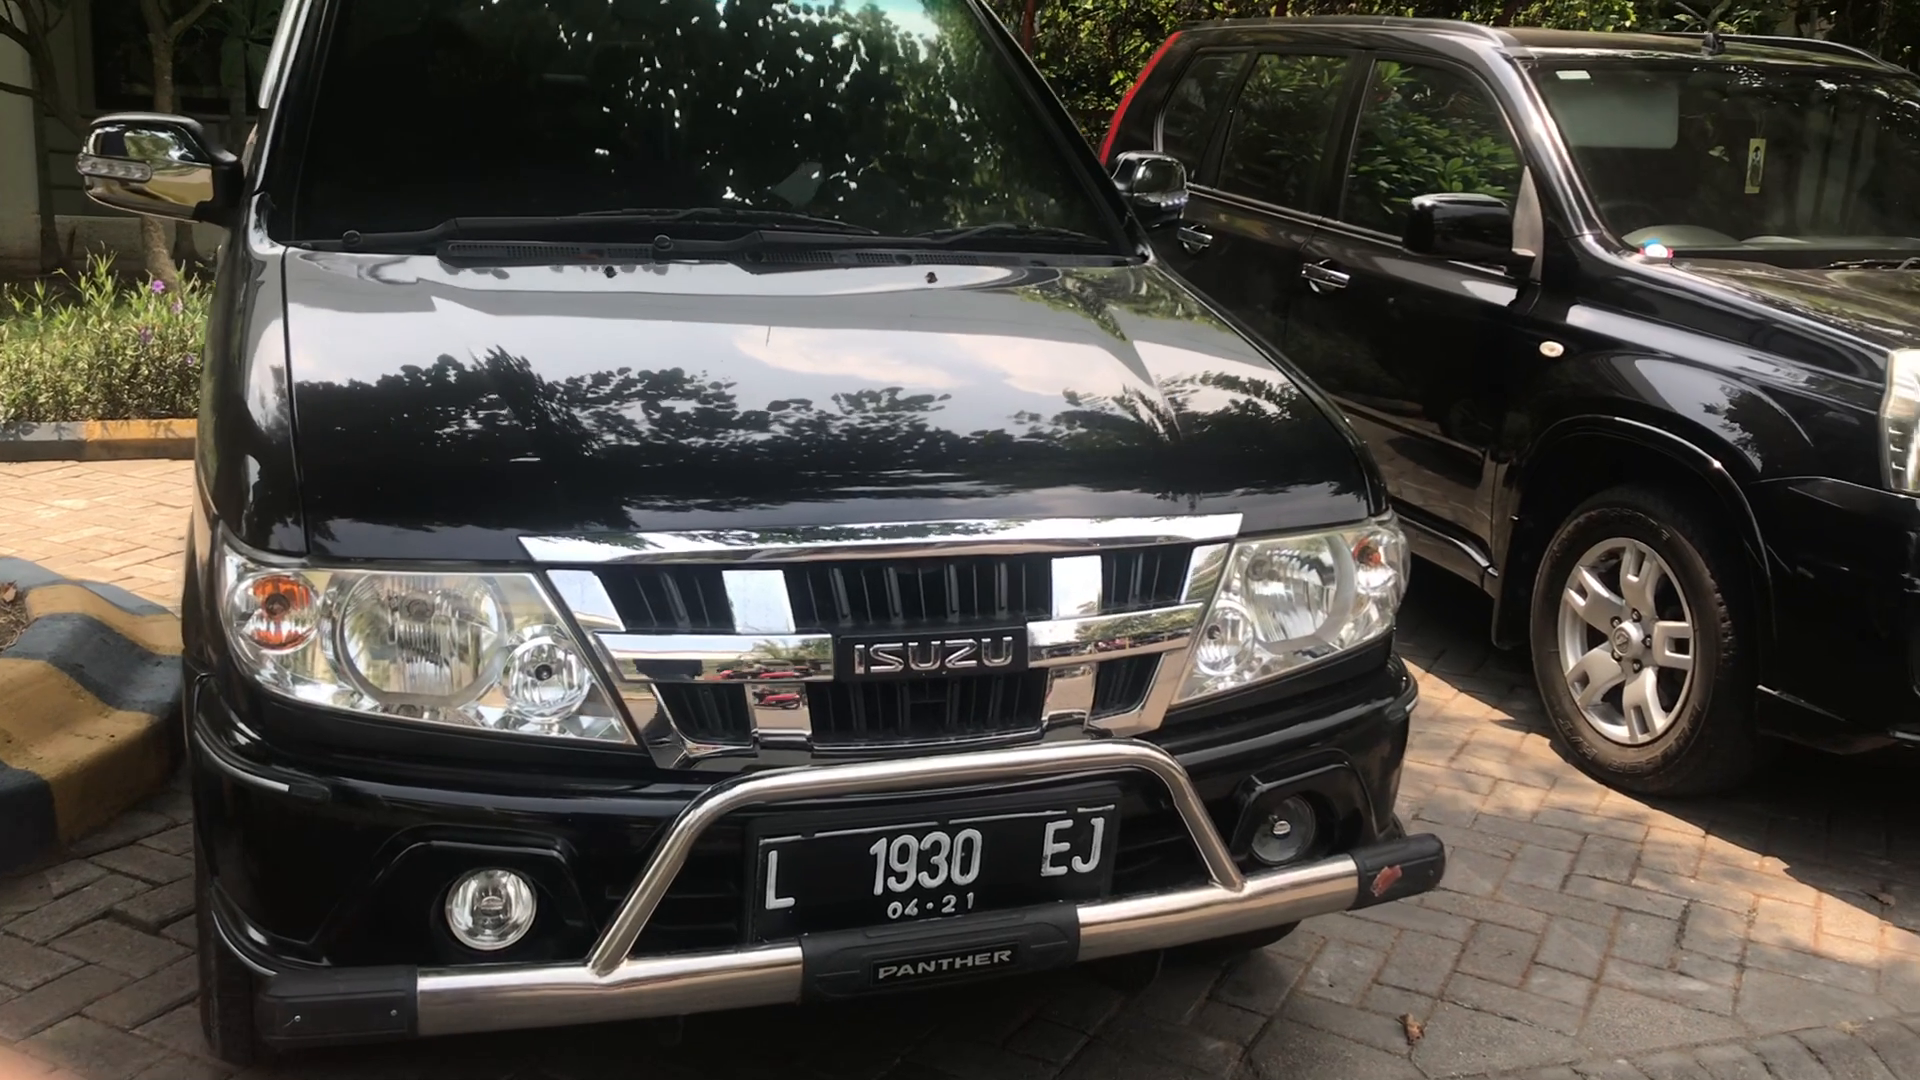plate: (747, 785, 1120, 940)
